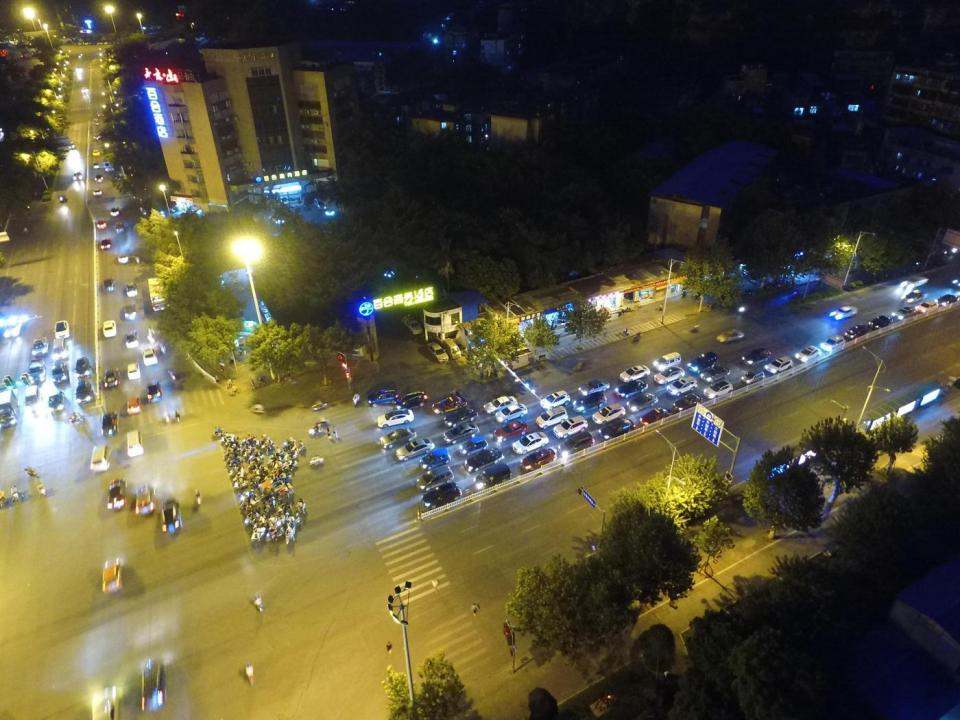bus: (0, 389, 19, 430), (147, 276, 169, 311)
car: (140, 656, 167, 712), (421, 482, 462, 509), (416, 464, 454, 492), (464, 447, 504, 473), (473, 463, 513, 489), (90, 685, 119, 720), (558, 432, 595, 458), (396, 438, 436, 462), (159, 496, 182, 535), (552, 414, 589, 438), (598, 418, 636, 440), (535, 405, 568, 430), (443, 422, 480, 444), (380, 426, 417, 448), (493, 420, 530, 442), (512, 432, 549, 454), (520, 449, 556, 471), (686, 352, 719, 376), (592, 403, 627, 425), (572, 391, 607, 413), (420, 448, 452, 471), (102, 558, 122, 594), (483, 395, 519, 415), (666, 375, 697, 398), (376, 410, 415, 428), (432, 396, 468, 415), (444, 407, 478, 427), (626, 392, 658, 413), (614, 380, 650, 398), (107, 478, 127, 509), (135, 483, 154, 515), (639, 407, 671, 426), (700, 365, 732, 384), (495, 404, 528, 422), (578, 379, 611, 397), (459, 436, 488, 456), (672, 394, 704, 412), (368, 388, 399, 406), (395, 392, 426, 410), (654, 366, 685, 384), (618, 366, 652, 382), (704, 380, 734, 398), (764, 356, 794, 374), (742, 347, 772, 365), (540, 390, 571, 407), (100, 410, 119, 437), (74, 380, 94, 404), (50, 360, 69, 385), (28, 358, 46, 384), (820, 334, 846, 351), (428, 342, 448, 364), (716, 329, 745, 344), (891, 306, 919, 321), (829, 306, 859, 320), (796, 346, 822, 362), (146, 379, 163, 403), (32, 336, 50, 358), (48, 388, 64, 412), (741, 370, 765, 386), (845, 324, 869, 340), (868, 315, 893, 330), (899, 276, 929, 288), (74, 356, 90, 378), (104, 367, 120, 389), (902, 289, 928, 302), (934, 294, 959, 307), (142, 346, 158, 366), (915, 301, 939, 313), (126, 362, 141, 381), (126, 396, 141, 415), (125, 329, 139, 349), (102, 320, 116, 338), (123, 304, 136, 320), (126, 282, 138, 298), (103, 277, 115, 292), (101, 238, 111, 251), (117, 253, 128, 264), (96, 220, 107, 230), (110, 207, 120, 217), (73, 172, 82, 180), (94, 174, 103, 182), (93, 188, 102, 196), (93, 134, 101, 142), (68, 142, 75, 150), (92, 150, 100, 157), (82, 87, 88, 93), (94, 118, 99, 125)
van: (652, 351, 683, 372), (24, 385, 42, 419), (89, 445, 110, 473), (126, 428, 143, 458), (401, 315, 423, 335), (443, 338, 461, 360), (52, 336, 67, 360)
